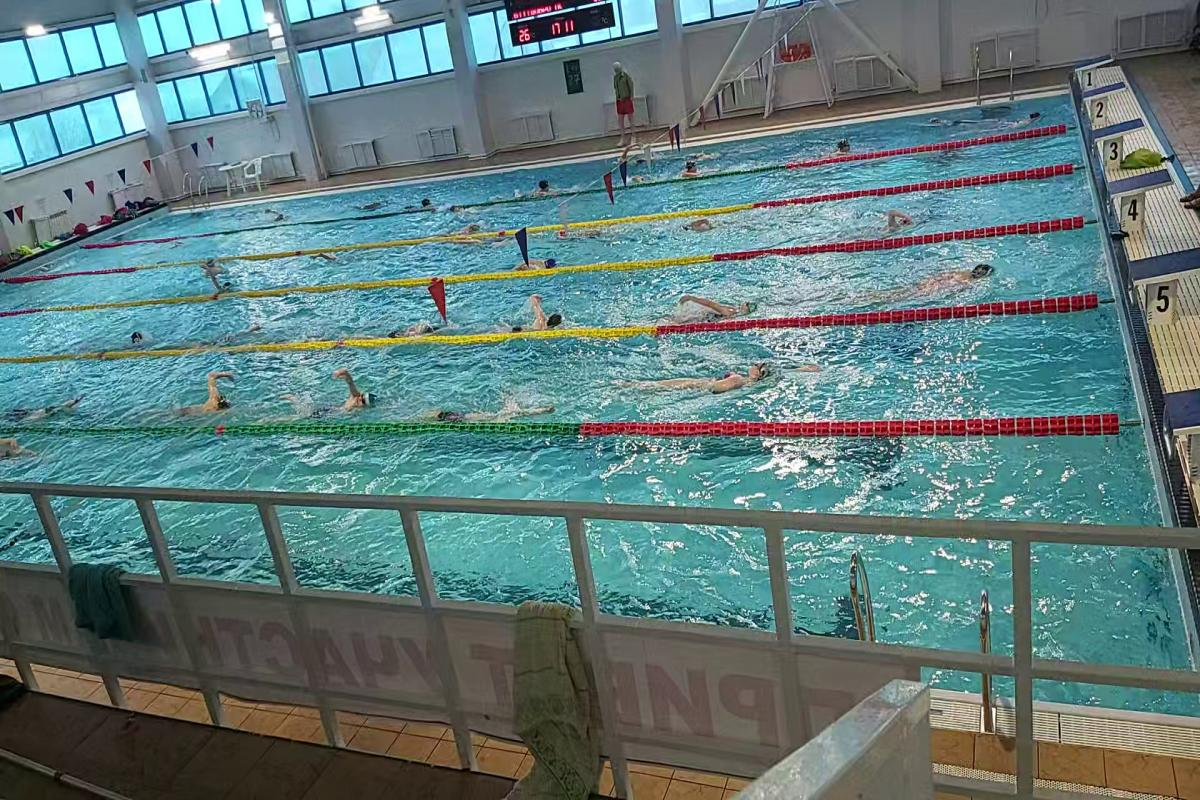swimmer: (616, 350, 828, 395), (414, 391, 577, 427), (855, 266, 996, 305), (300, 366, 384, 418), (667, 282, 771, 322), (494, 286, 583, 330), (170, 368, 242, 422), (4, 392, 90, 427), (875, 200, 925, 234), (678, 216, 723, 240), (514, 251, 560, 272), (458, 215, 482, 236), (199, 253, 223, 273)
